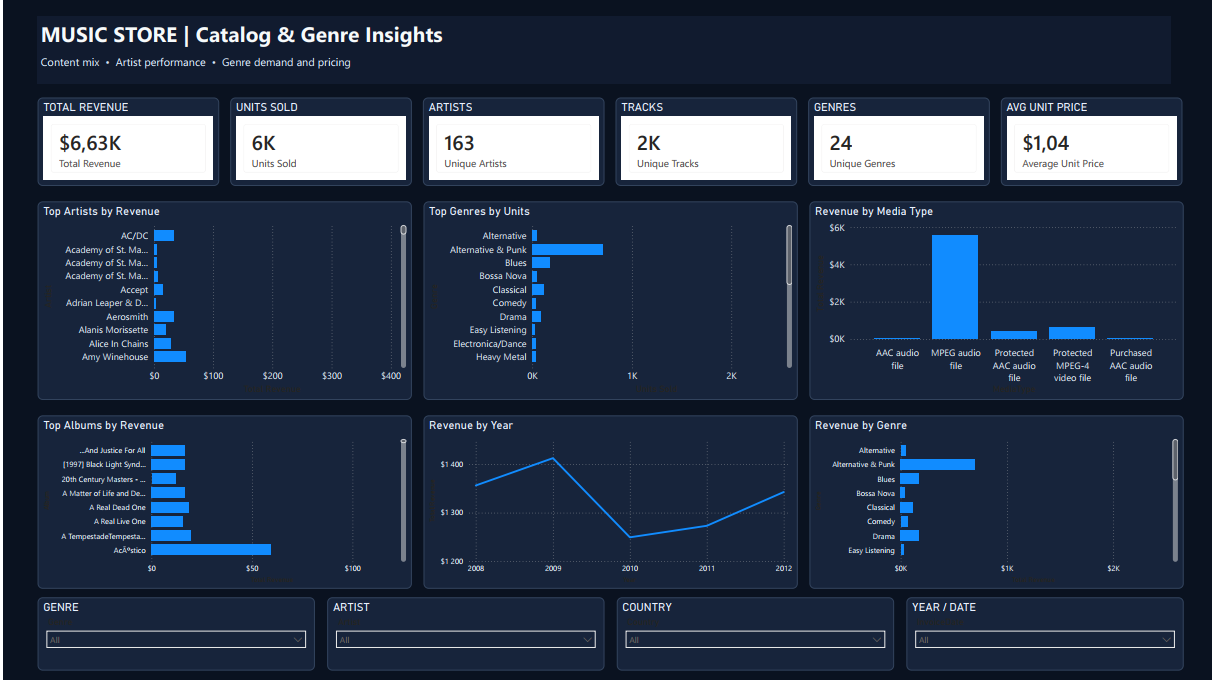

The page's visual inventory and layout, read from the dashboard file:
{"tool":"powerbi","page":{"name":"Catalog & Genre Insights","canvas":[1920,1080],"ordinal":2},"visuals":[{"type":"textbox","box":[55,26,1800,54],"z":100},{"type":"textbox","box":[55,80,1800,54],"z":101},{"type":"cardVisual","title":"TOTAL REVENUE","fields":{"Data":["Music Sales.Total Revenue"]},"box":[55,155,288,140],"z":102},{"type":"cardVisual","title":"UNITS SOLD","fields":{"Data":["Music Sales.Units Sold"]},"box":[361,155,288,140],"z":103},{"type":"cardVisual","title":"ARTISTS","fields":{"Data":["Music Sales.Unique Artists"]},"box":[667,155,288,140],"z":104},{"type":"cardVisual","title":"TRACKS","fields":{"Data":["Music Sales.Unique Tracks"]},"box":[973,155,288,140],"z":105},{"type":"cardVisual","title":"GENRES","fields":{"Data":["Music Sales.Unique Genres"]},"box":[1279,155,288,140],"z":106},{"type":"cardVisual","title":"AVG UNIT PRICE","fields":{"Data":["Music Sales.Average Unit Price"]},"box":[1585,155,288,140],"z":107},{"type":"barChart","title":"Top Artists by Revenue","fields":{"Category":["Music Sales.Artist"],"Y":["Music Sales.Total Revenue"]},"box":[55,320,594,315],"z":108},{"type":"barChart","title":"Top Genres by Units","fields":{"Category":["Music Sales.Genre"],"Y":["Music Sales.Units Sold"]},"box":[668,320,594,315],"z":109},{"type":"clusteredColumnChart","title":"Revenue by Media Type","fields":{"Category":["Music Sales.MediaType"],"Y":["Music Sales.Total Revenue"]},"box":[1281,320,594,315],"z":110},{"type":"barChart","title":"Top Albums by Revenue","fields":{"Category":["Music Sales.Album"],"Y":["Music Sales.Total Revenue"]},"box":[55,660,594,275],"z":111},{"type":"lineChart","title":"Revenue by Year","fields":{"Category":["Music Sales.InvoiceDate.Variation.Date Hierarchy.Year"],"Y":["Music Sales.Total Revenue"]},"box":[668,660,594,275],"z":112},{"type":"barChart","title":"Revenue by Genre","fields":{"Category":["Music Sales.Genre"],"Y":["Music Sales.Total Revenue"]},"box":[1281,660,594,275],"z":113},{"type":"slicer","title":"GENRE","fields":{"Values":["Music Sales.Genre"]},"box":[55,949,440,116],"z":114},{"type":"slicer","title":"ARTIST","fields":{"Values":["Music Sales.Artist"]},"box":[515,949,440,116],"z":115},{"type":"slicer","title":"COUNTRY","fields":{"Values":["Music Sales.Country"]},"box":[975,949,440,116],"z":116},{"type":"slicer","title":"YEAR / DATE","fields":{"Values":["Music Sales.InvoiceDate"]},"box":[1435,949,440,116],"z":117}]}

Visuals, with their boxes in screenshot pixels (x1, y1, x2, y2), scaled from the page's 1920x1080 canvas onto the 1214x680 screenshot:
textbox: Rect(35, 16, 1173, 50)
textbox: Rect(35, 50, 1173, 84)
"TOTAL REVENUE" cardVisual: Rect(35, 98, 217, 186)
"UNITS SOLD" cardVisual: Rect(228, 98, 410, 186)
"ARTISTS" cardVisual: Rect(422, 98, 604, 186)
"TRACKS" cardVisual: Rect(615, 98, 797, 186)
"GENRES" cardVisual: Rect(809, 98, 991, 186)
"AVG UNIT PRICE" cardVisual: Rect(1002, 98, 1184, 186)
"Top Artists by Revenue" barChart: Rect(35, 201, 410, 400)
"Top Genres by Units" barChart: Rect(422, 201, 798, 400)
"Revenue by Media Type" clusteredColumnChart: Rect(810, 201, 1186, 400)
"Top Albums by Revenue" barChart: Rect(35, 416, 410, 589)
"Revenue by Year" lineChart: Rect(422, 416, 798, 589)
"Revenue by Genre" barChart: Rect(810, 416, 1186, 589)
"GENRE" slicer: Rect(35, 598, 313, 671)
"ARTIST" slicer: Rect(326, 598, 604, 671)
"COUNTRY" slicer: Rect(616, 598, 895, 671)
"YEAR / DATE" slicer: Rect(907, 598, 1186, 671)
